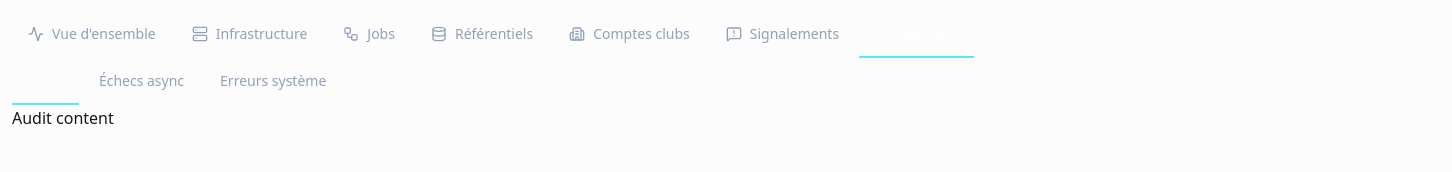
it: Tabs › Journaux sub-tabs render a nested tablist and switch on click
Expected: the element named "Journaux" is shown, [12,59,1451,106]
Click the tab "Erreurs système" at (273, 82), box [204,59,342,105]
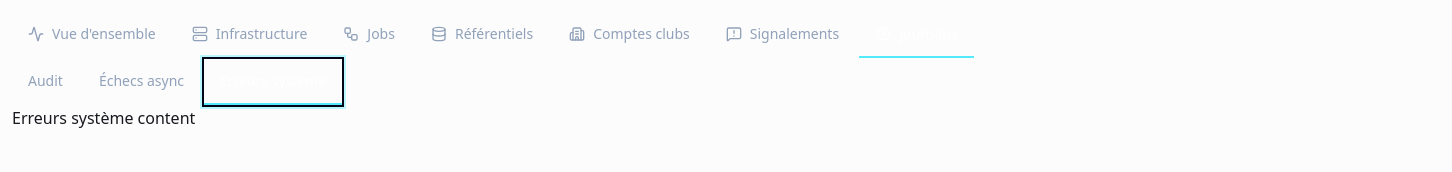
Expected: the text "Erreurs système content" is shown, [12,107,195,129]
Expected: the text "Audit content" is gone
